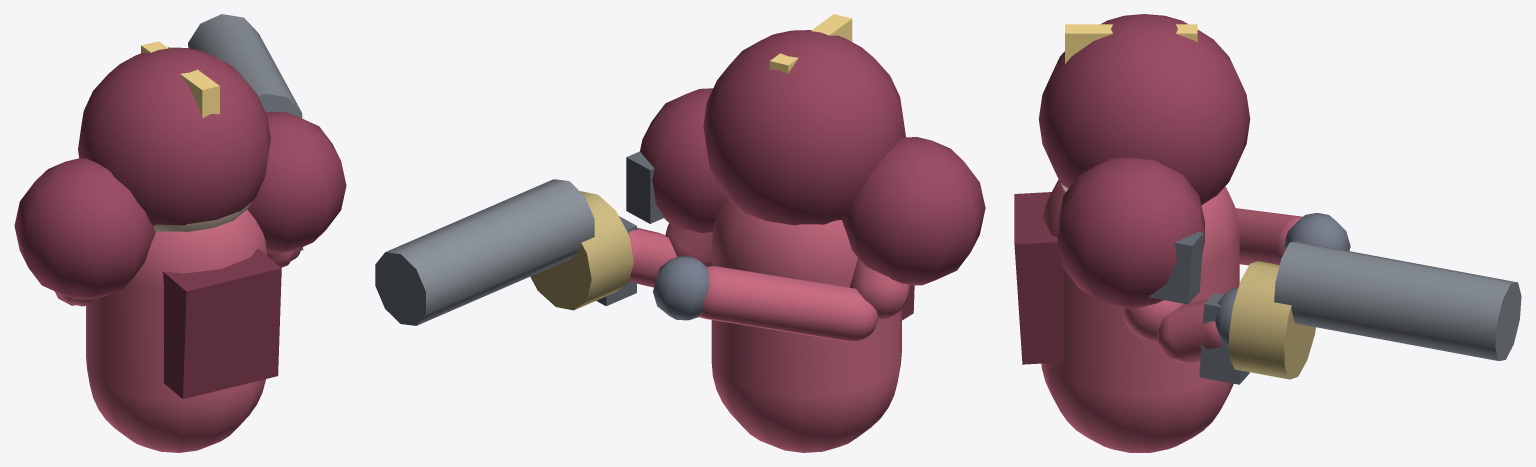
Rendered from elite_body.glb.
3 renders of one model, left to right at view 1: azimuth 30°, elevation 25°; view 2: azimuth 150°, elevation 25°; view 3: azimuth 270°, elevation 25°, orthographic. The views are drawn at different scales.
Visible parts, largest first — view 1: elite_body; view 2: elite_body; view 3: elite_body.
Boxes of the visible parts, x1,y1,x2,y2 form: elite_body: (14, 14, 346, 452); elite_body: (375, 14, 985, 452); elite_body: (1014, 14, 1521, 452).
Size of the model in its own units: 1.15 by 1.05 by 1.15.
